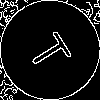T: (25, 25, 81, 75)
